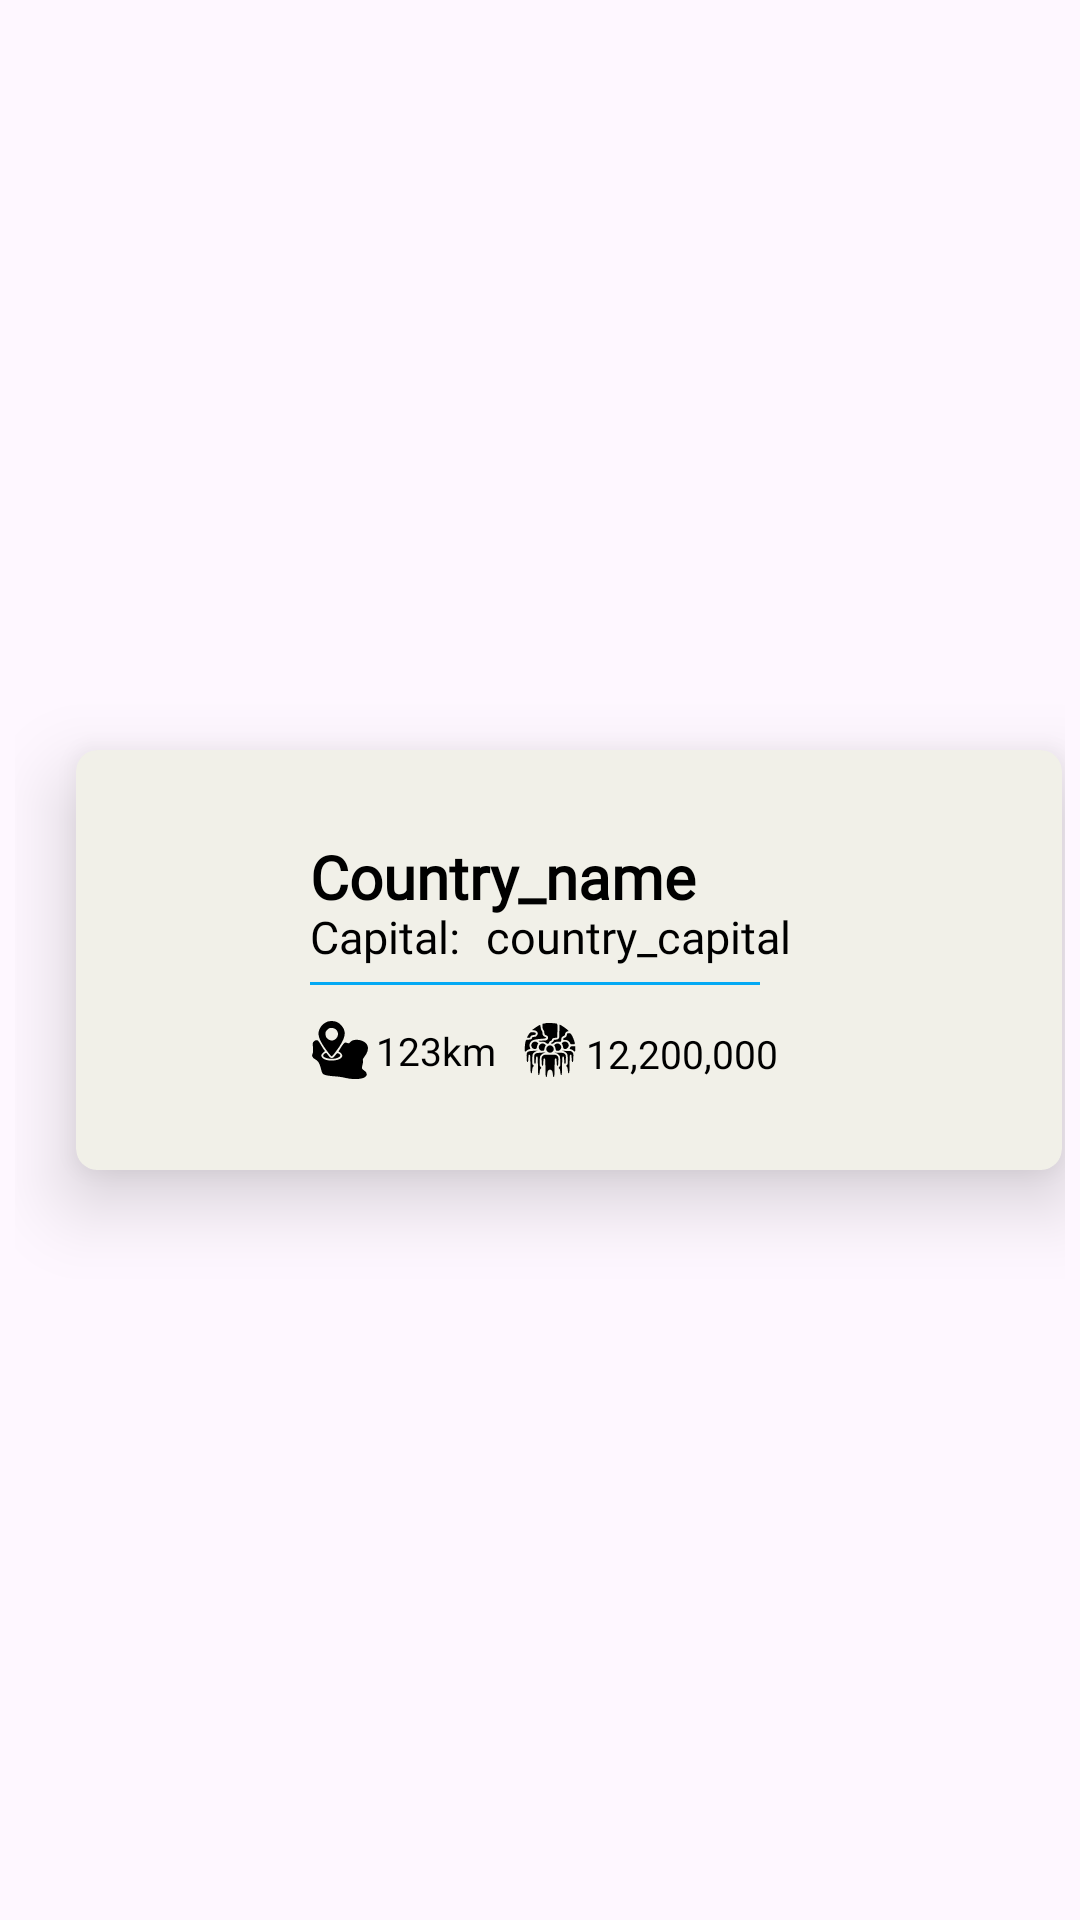

Icons on this 1080w x 1920h Android screen, each with the point to tap as [x,y]:
location: [340,1050]
overpopulation: [550,1050]
